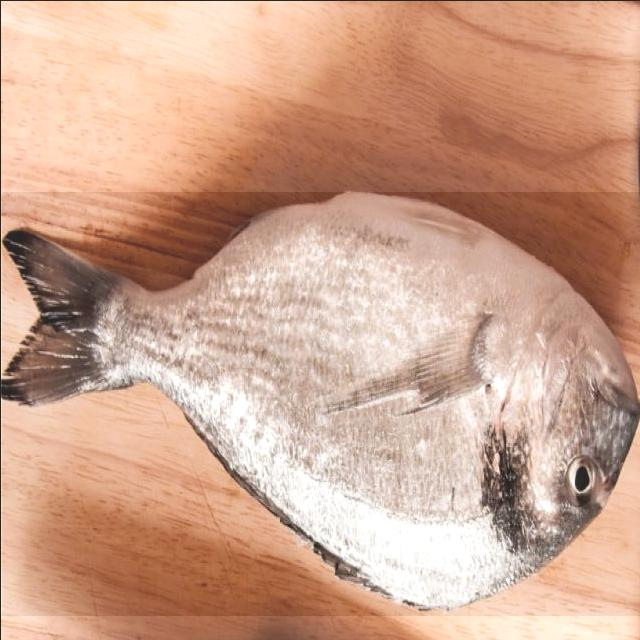Healthy Fish: (1, 191, 640, 615)
